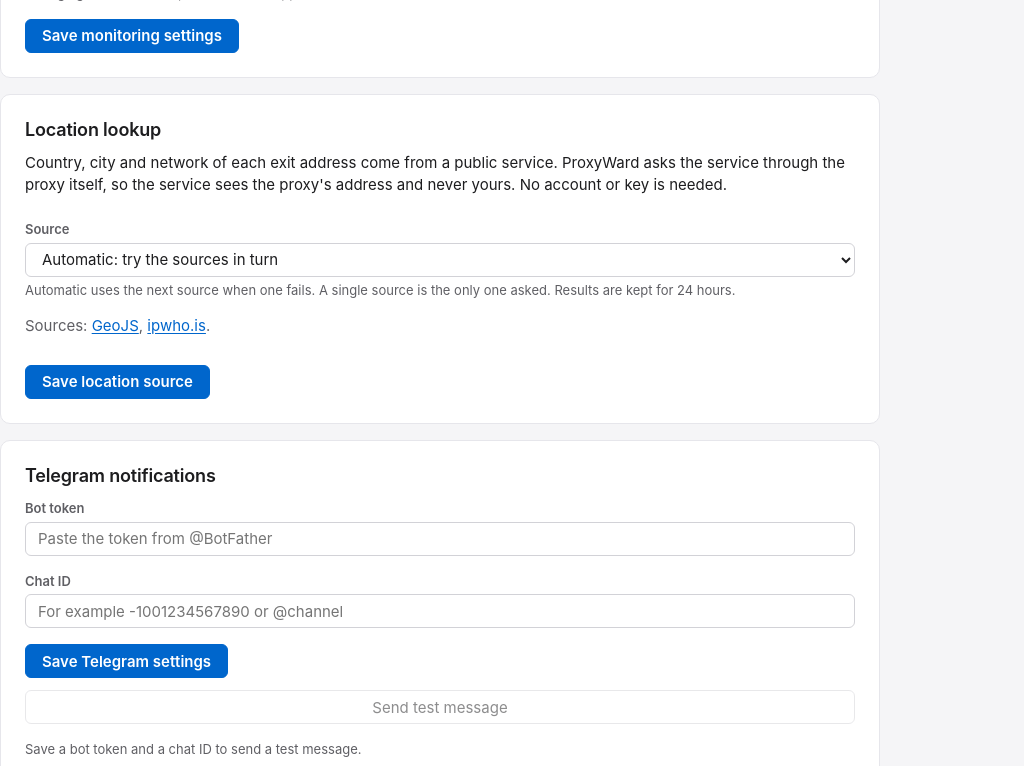
Test: SettingsPage › shows the server message when the source cannot be saved
The image size is (1024, 766).
(page scrolled)
Click the button "Save location source".
click(118, 382)  # box x1=25 y1=365 x2=210 y2=399
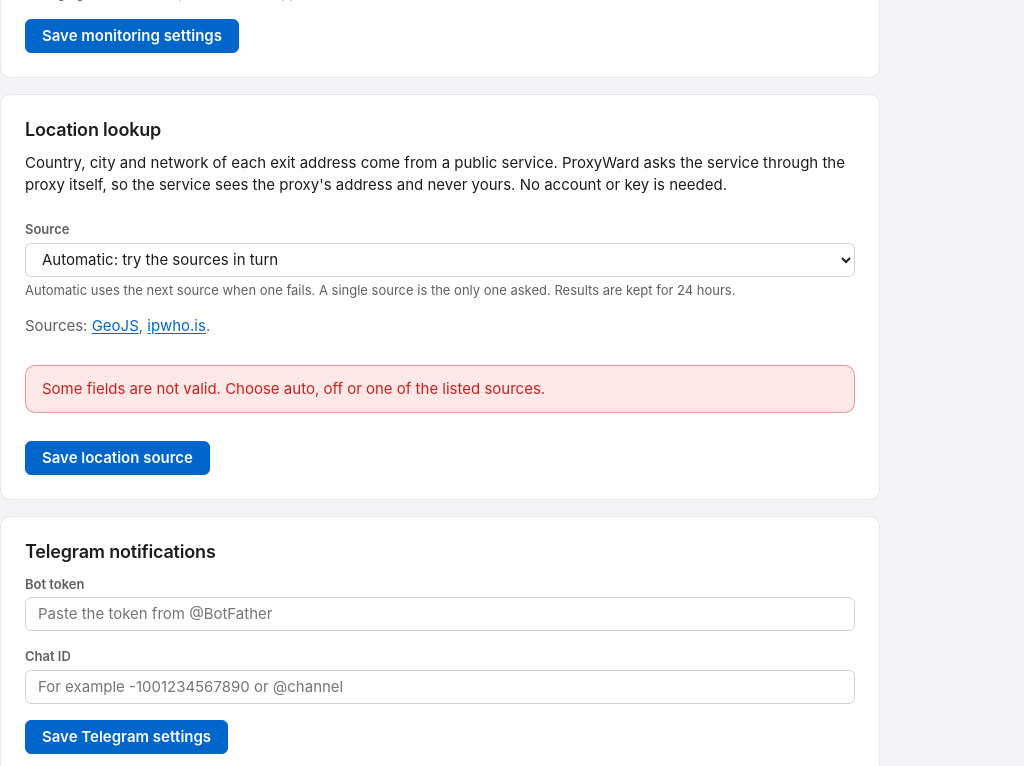
Expected: the message shows "Choose auto, off", x1=42 y1=379 x2=545 y2=398
